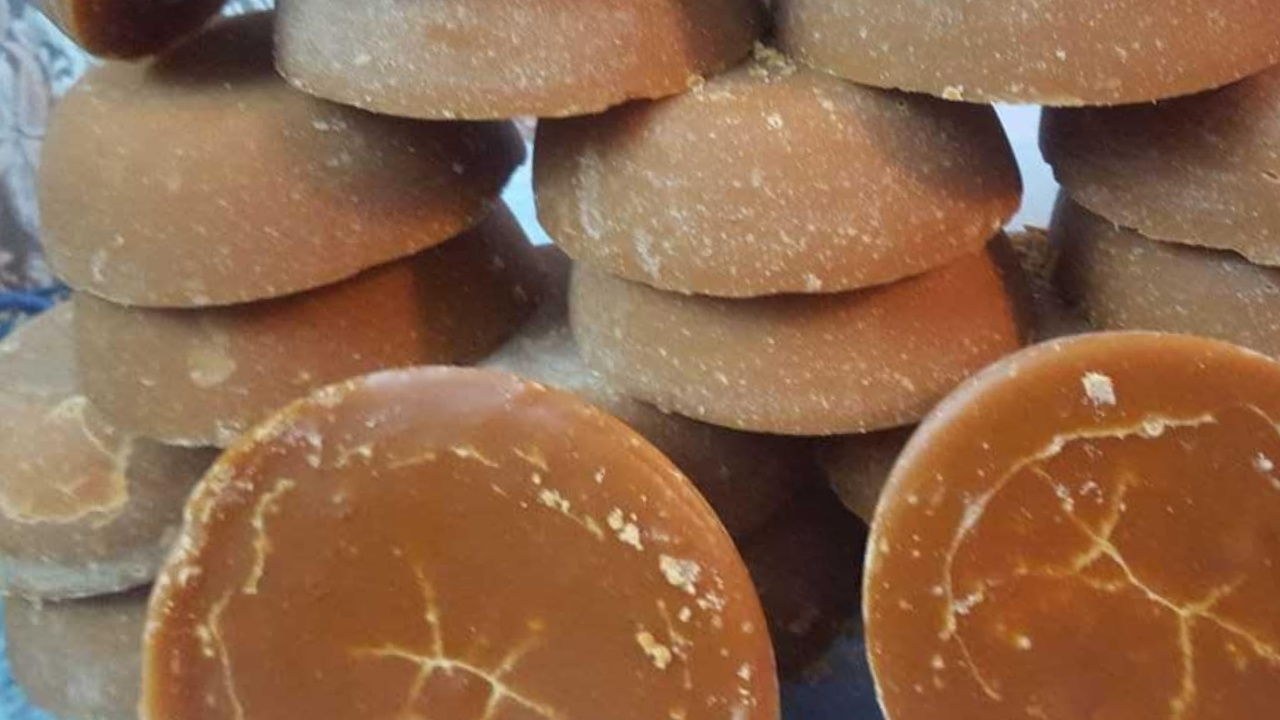hakuru: (131, 355, 830, 720), (809, 323, 1280, 720), (515, 29, 1042, 302), (34, 21, 527, 312), (994, 0, 1280, 282)
